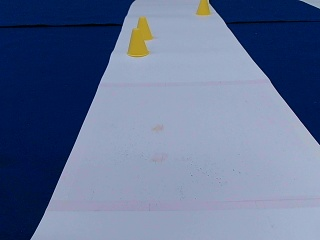cone: (127, 30, 149, 56), (137, 17, 154, 40), (196, 1, 210, 15)
